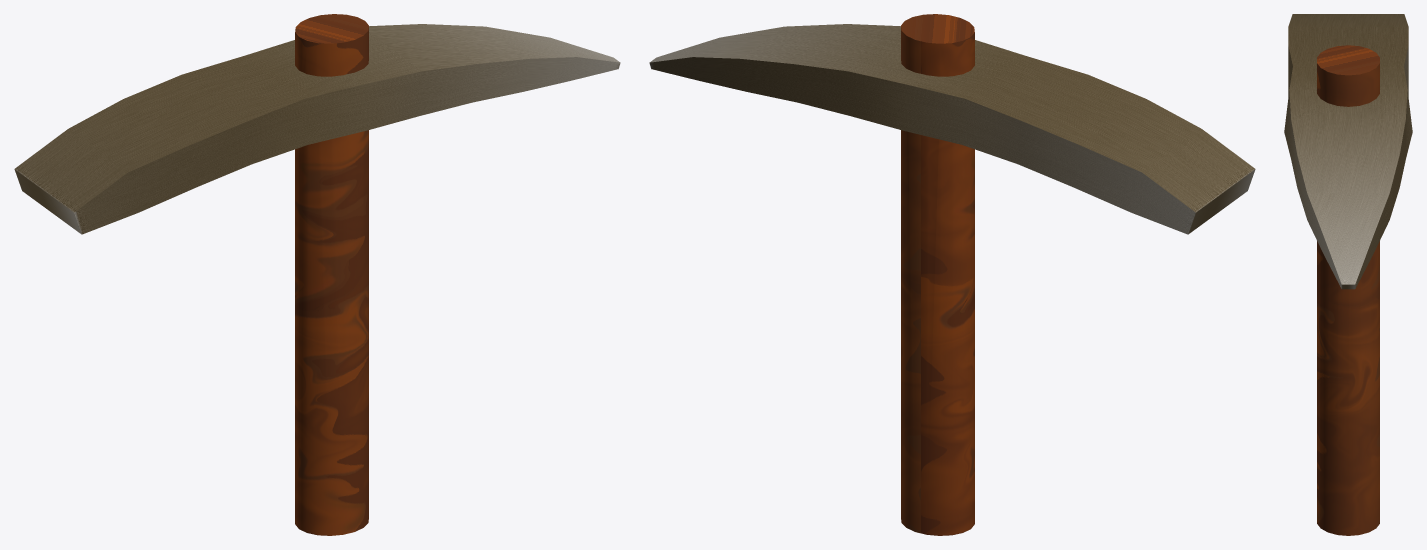
Rendered from pickaxe.FBX.
The picture shows the model from 3 angles, left to right: view 1: azimuth 30°, elevation 25°; view 2: azimuth 150°, elevation 25°; view 3: azimuth 270°, elevation 25°; orthographic projection. The views are drawn at different scales.
Parts seen in each view (by area): view 1: Cylinder001; view 2: Cylinder001; view 3: Cylinder001.
Boxes of the visible parts, left/top/right/bottom form: Cylinder001: left=14, top=14, right=620, bottom=535; Cylinder001: left=649, top=14, right=1255, bottom=535; Cylinder001: left=1284, top=14, right=1412, bottom=535.
Bounding box in the file's own units: 12.18 × 2.53 × 10.
Materials: 2 (2 with a texture image).
